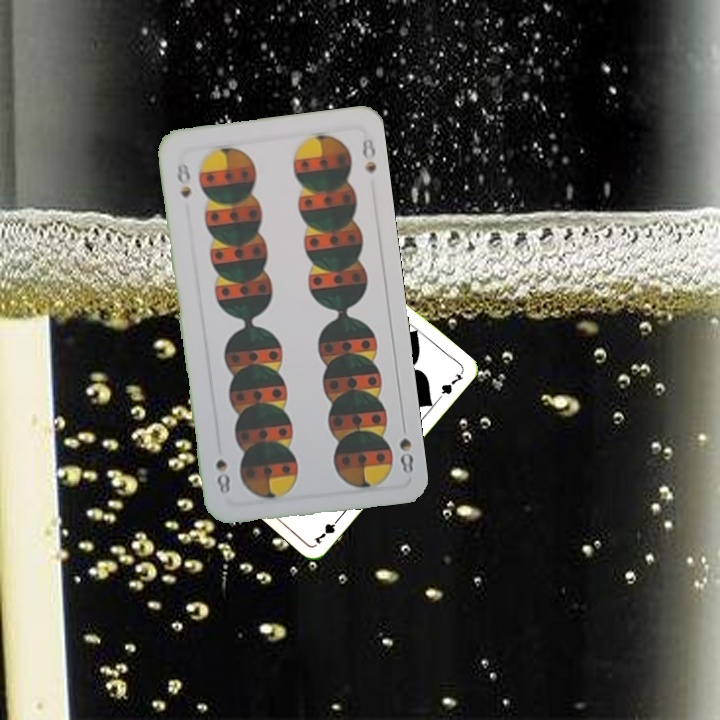G7: (310, 513, 343, 547)
S8: (395, 417, 417, 477), (173, 160, 193, 200)
